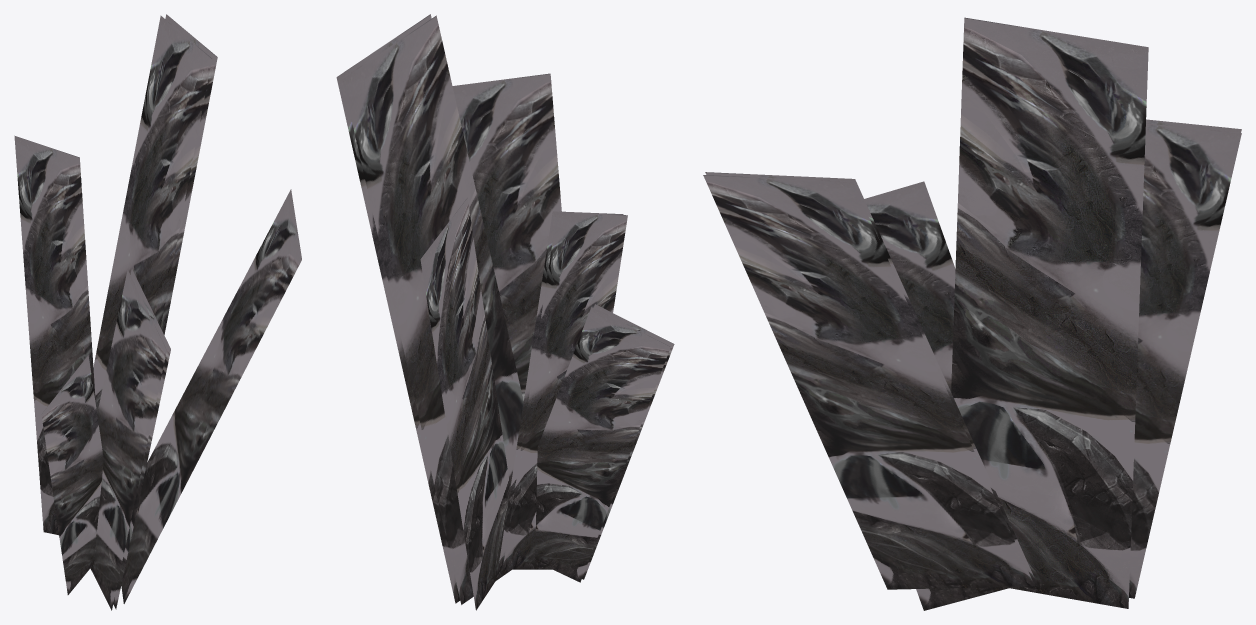
The model's file is Item_map35_yumao_01.FBX.
The picture shows the model from 3 angles, left to right: view 1: azimuth 30°, elevation 25°; view 2: azimuth 150°, elevation 25°; view 3: azimuth 270°, elevation 25°; orthographic projection. The views are drawn at different scales.
Visible parts, largest first — view 1: Item_map35_yumao_01; view 2: Item_map35_yumao_01; view 3: Item_map35_yumao_01.
Part boxes in pixels (x1=…): Item_map35_yumao_01: x1=14, y1=14, x2=301, y2=610; Item_map35_yumao_01: x1=336, y1=14, x2=674, y2=610; Item_map35_yumao_01: x1=703, y1=17, x2=1241, y2=610.
Size of the model in its own units: 211 by 429 by 314.
1 material, 1 textured.
